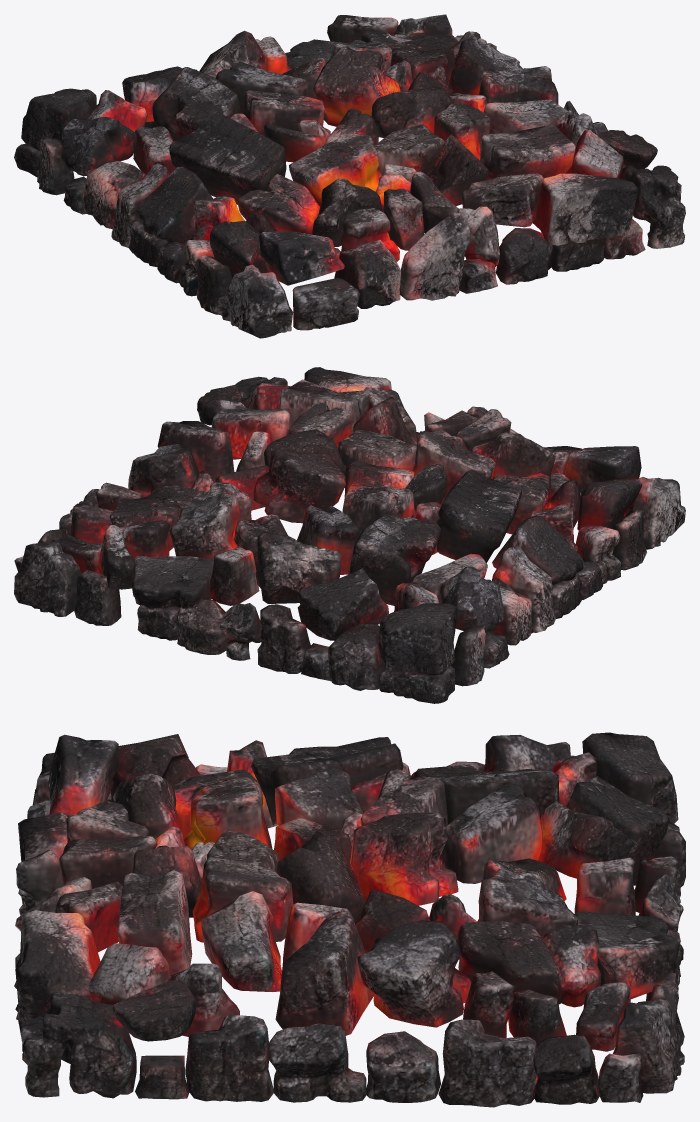
File: bbq_coal_bed_tile.glb
The picture shows the model from 3 angles, top to bottom: view 1: azimuth 30°, elevation 25°; view 2: azimuth 150°, elevation 25°; view 3: azimuth 270°, elevation 25°; orthographic projection. The views are drawn at different scales.
Visible parts, largest first — view 1: tripo_node_153914dc-cbe9-42ac-be02-48715b2a38a6; view 2: tripo_node_153914dc-cbe9-42ac-be02-48715b2a38a6; view 3: tripo_node_153914dc-cbe9-42ac-be02-48715b2a38a6.
Part boxes in pixels (x1=…): tripo_node_153914dc-cbe9-42ac-be02-48715b2a38a6: x1=14, y1=14, x2=685, y2=338; tripo_node_153914dc-cbe9-42ac-be02-48715b2a38a6: x1=14, y1=367, x2=685, y2=703; tripo_node_153914dc-cbe9-42ac-be02-48715b2a38a6: x1=14, y1=732, x2=685, y2=1107.
Size of the model in its own units: 0.9995 by 0.269 by 0.9849.
1 material, 1 textured.
